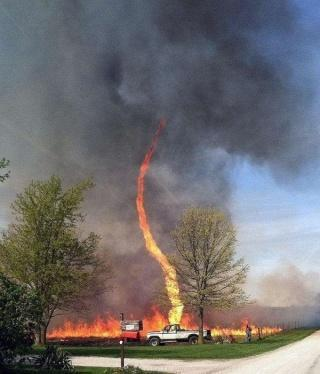fire: (129, 104, 199, 337), (47, 303, 283, 346)
